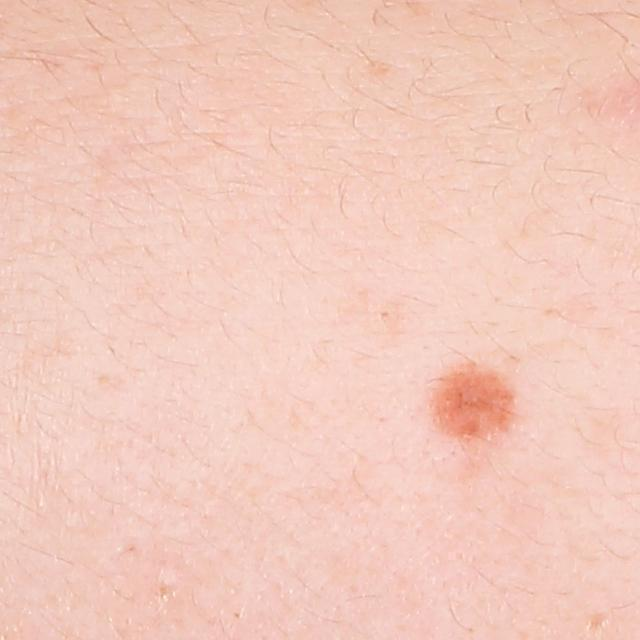nevus: (425, 344, 525, 441)
